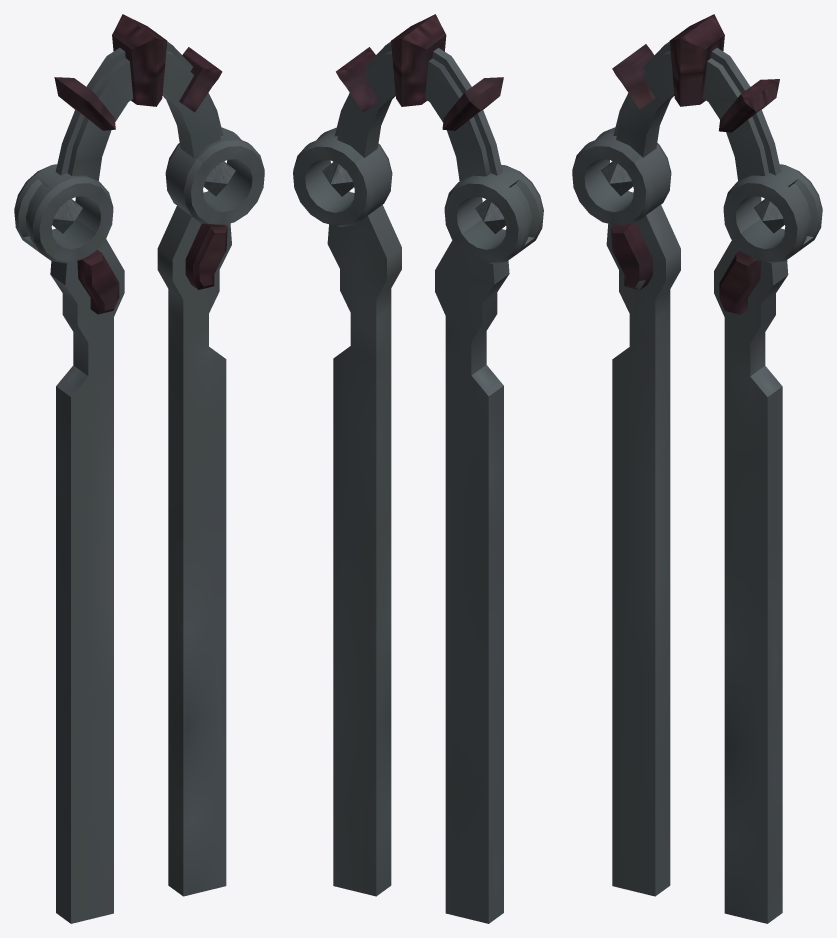
File: Decoration_ArcA_01.fbx
3 views of the same model, side by side, from view 1: azimuth 30°, elevation 25°; view 2: azimuth 150°, elevation 25°; view 3: azimuth 330°, elevation 25° (orthographic).
Visible parts, largest first — view 1: Decoration_ArcA_01; view 2: Decoration_ArcA_01; view 3: Decoration_ArcA_01.
Part boxes in pixels (x1,y1,x2,y2): Decoration_ArcA_01: (14, 14, 264, 923); Decoration_ArcA_01: (293, 14, 543, 923); Decoration_ArcA_01: (572, 14, 822, 923).
Bounding box in the file's own units: 896 × 3224 × 234.
